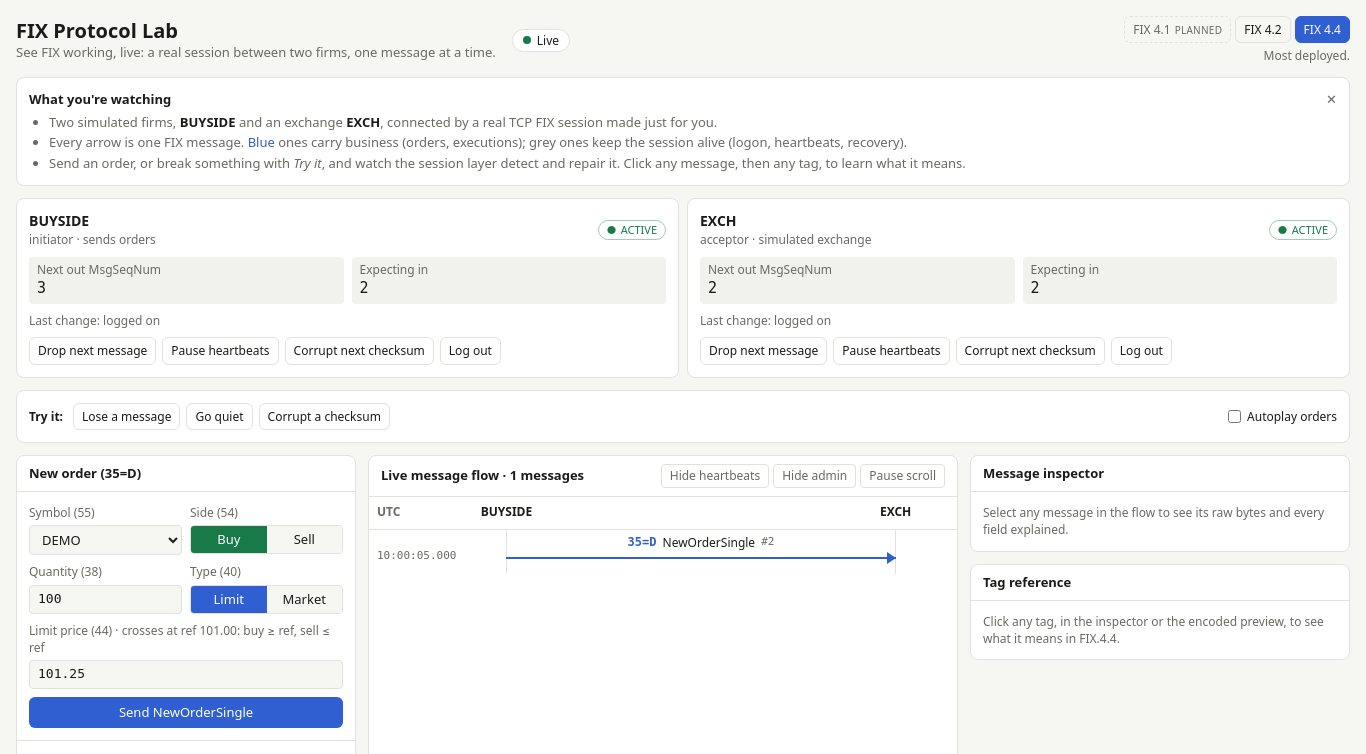
inspector and dictionary › clicking a tag opens its dictionary entry
Click the button with aria-label "NewOrderSingle (35=D)": click(663, 552) top-left (369, 530), bottom-right (957, 574)
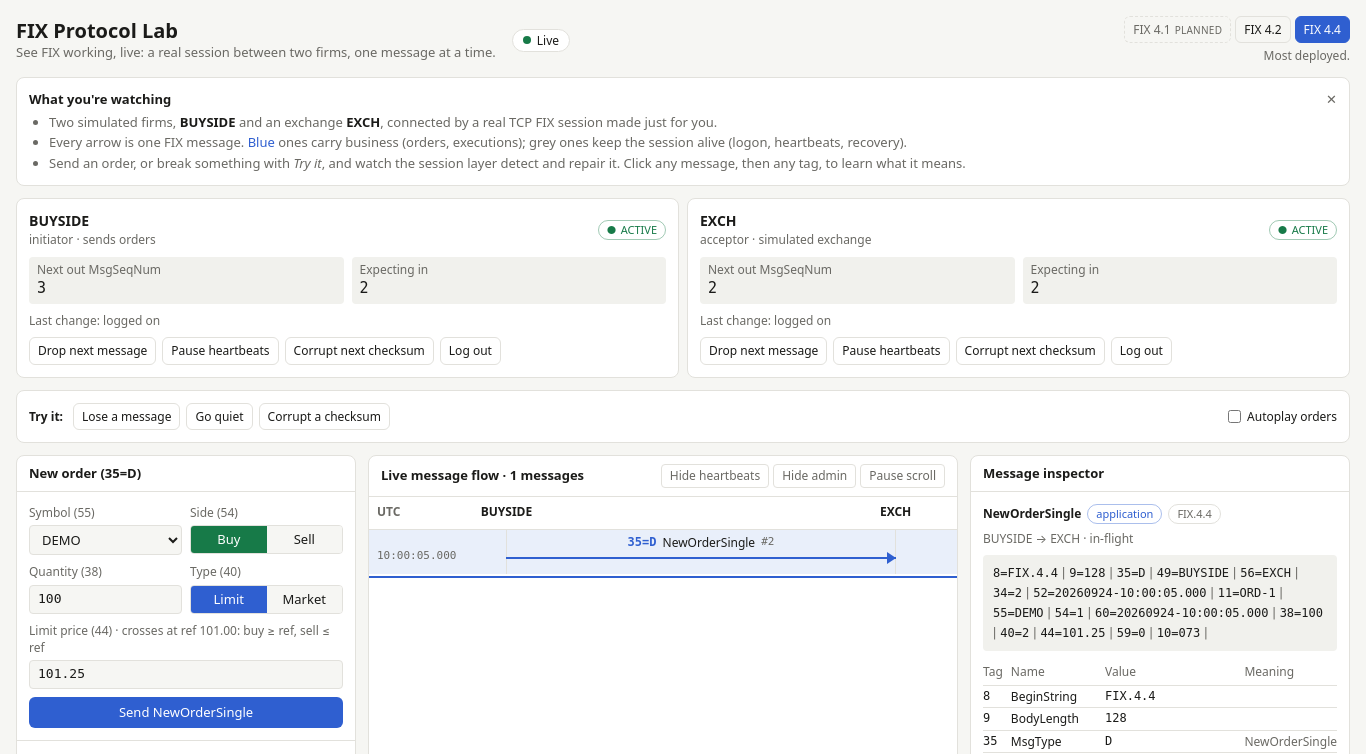
Click the button "54=1": click(1069, 613) top-left (1053, 603), bottom-right (1086, 623)
(page scrolled)
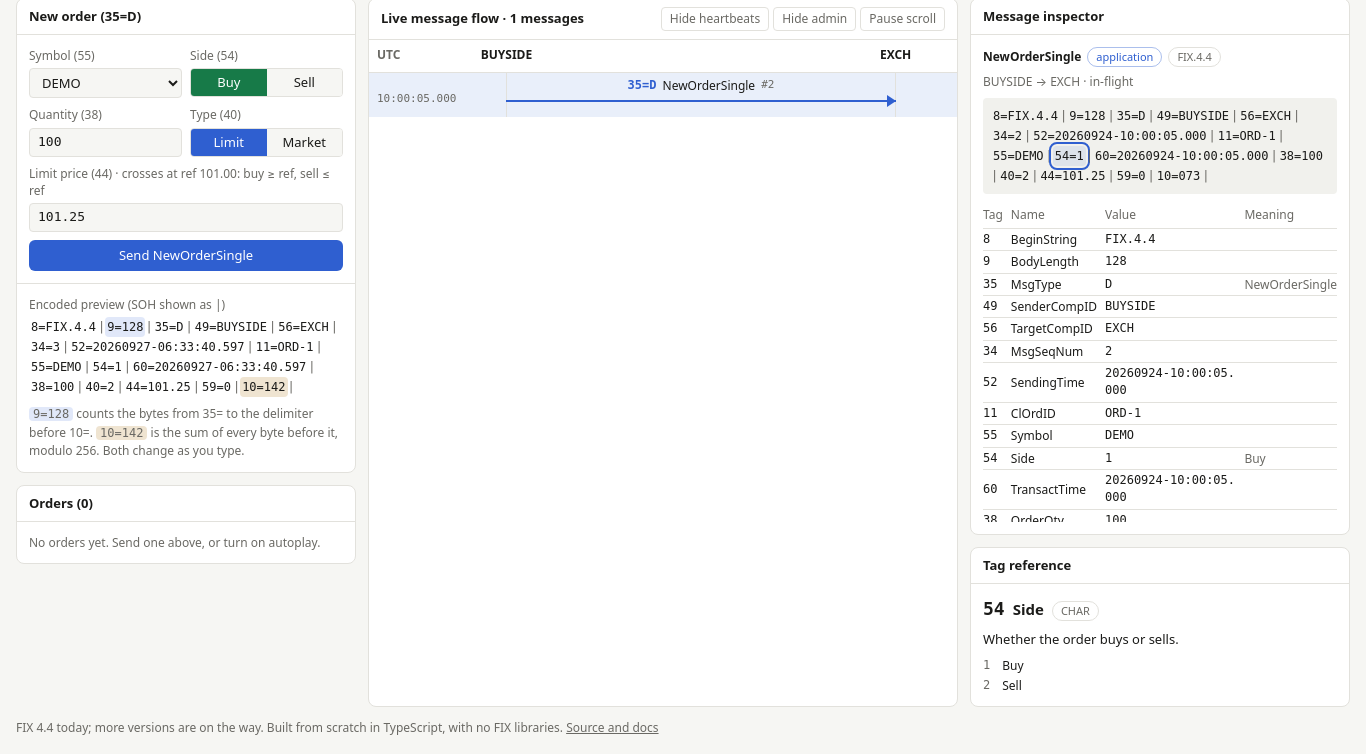
Check: the element "Tag reference 54 Side CHAR Whether the order buys or sells." is shown, box top-left (970, 547), bottom-right (1350, 707)
